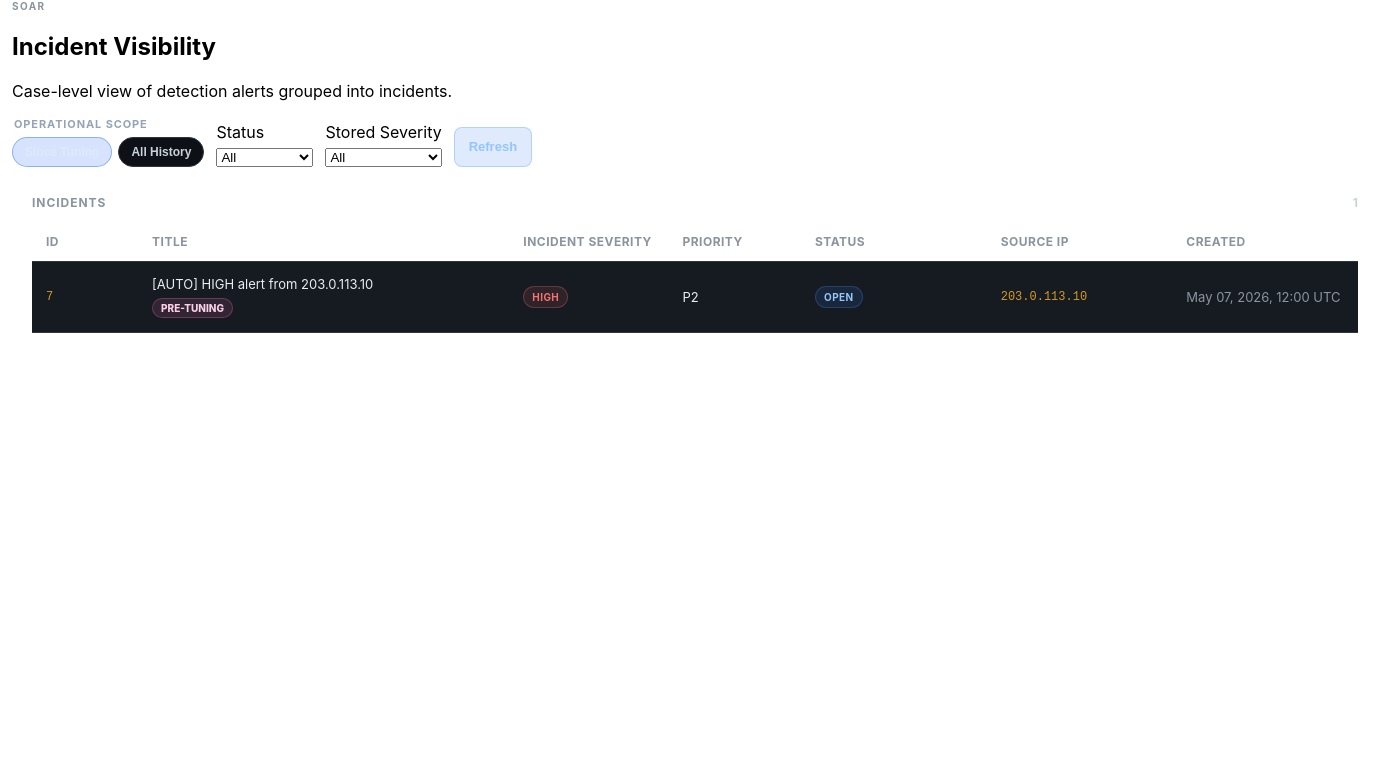
Test: IncidentsPanel › renders timeline loading state
Click the text "[AUTO] HIGH alert from 203.0.113.10": (263, 284) [152,276,373,292]
(page scrolled)
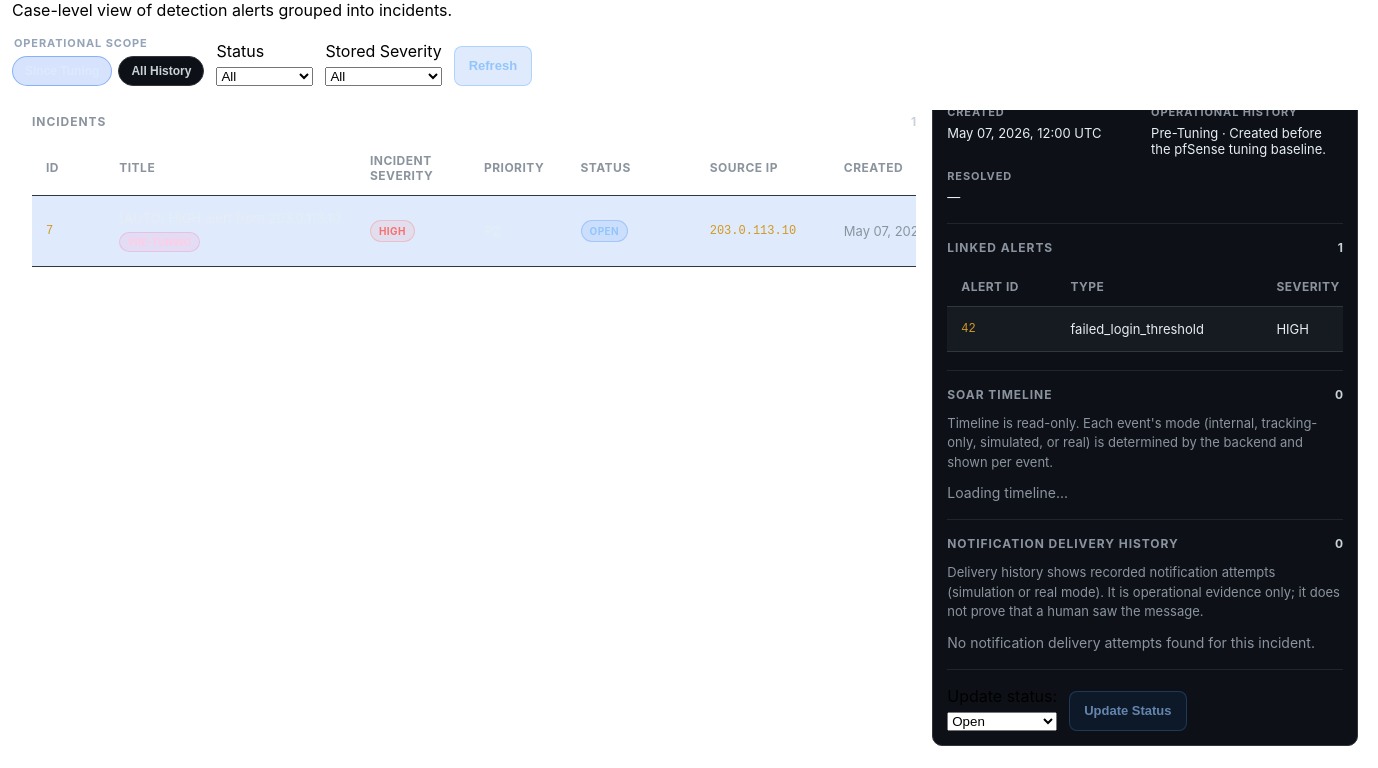
Check: the text "Loading timeline..." is shown, box [947,484,1068,501]
